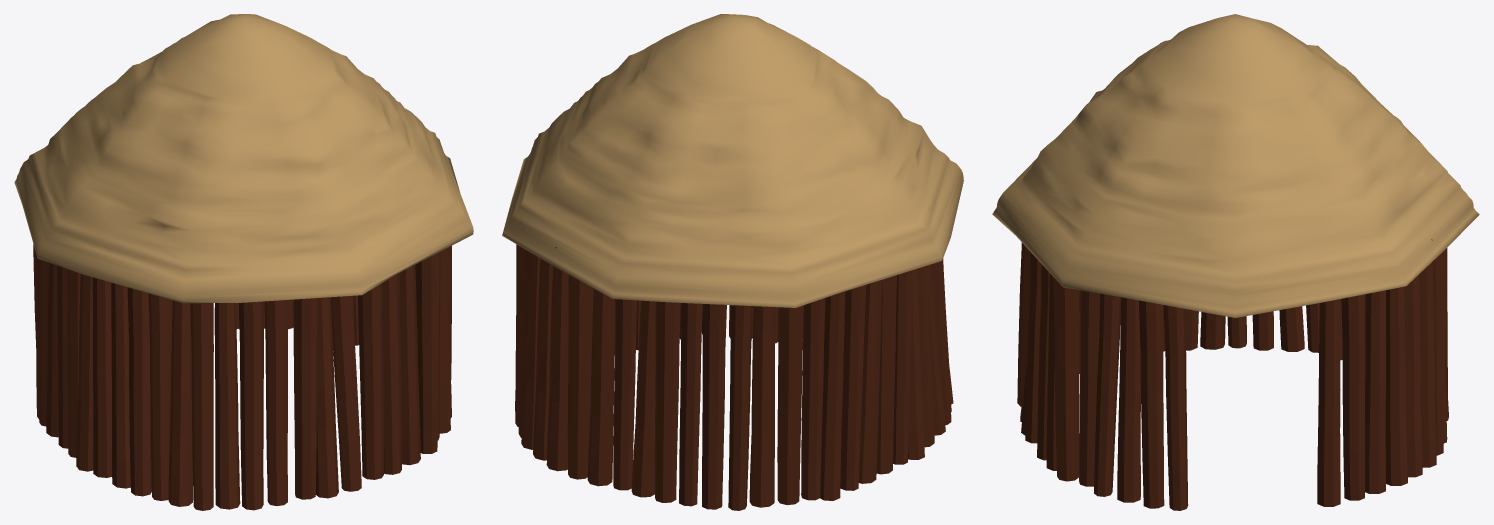
The model's file is SM_TribalHut_001.fbx.
3 views of the same model, side by side, from view 1: azimuth 30°, elevation 25°; view 2: azimuth 150°, elevation 25°; view 3: azimuth 270°, elevation 25° (orthographic). The views are drawn at different scales.
Visible parts, largest first — view 1: Wood Log v2.040; view 2: Wood Log v2.040; view 3: Wood Log v2.040.
Boxes of the visible parts, left/top/right/bottom form: Wood Log v2.040: left=14, top=14, right=473, bottom=510; Wood Log v2.040: left=502, top=14, right=963, bottom=510; Wood Log v2.040: left=992, top=14, right=1479, bottom=510.
Bounding box in the file's own units: 277 × 257 × 277.
